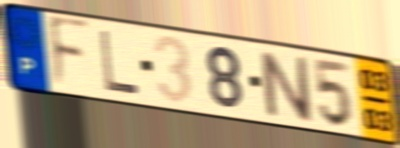3: (152, 34, 196, 108)
5: (309, 55, 357, 129)
8: (204, 43, 246, 112)
F: (46, 13, 93, 93)
L: (97, 27, 142, 97)
N: (256, 47, 317, 125)
